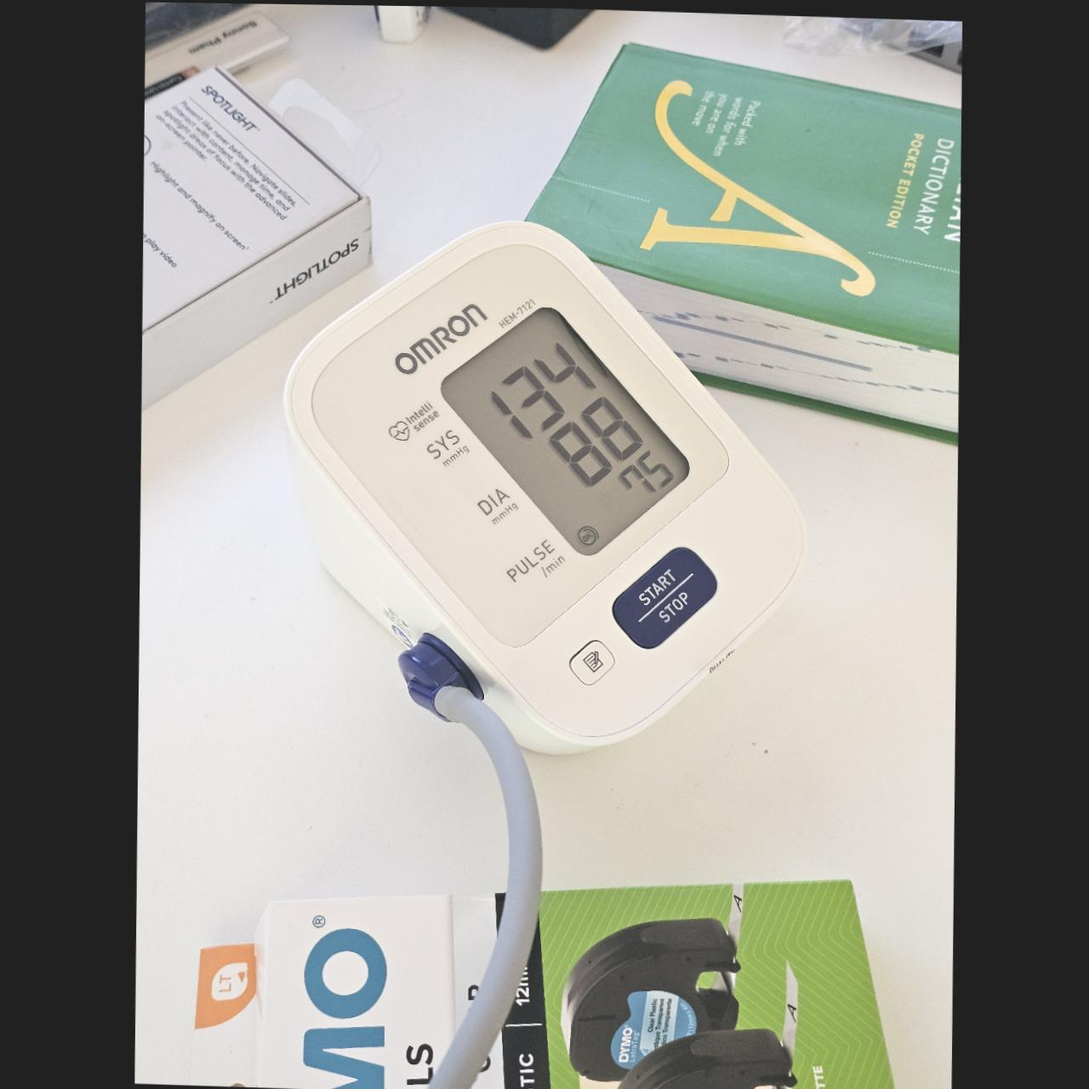lcd display: (434, 299, 700, 564)
